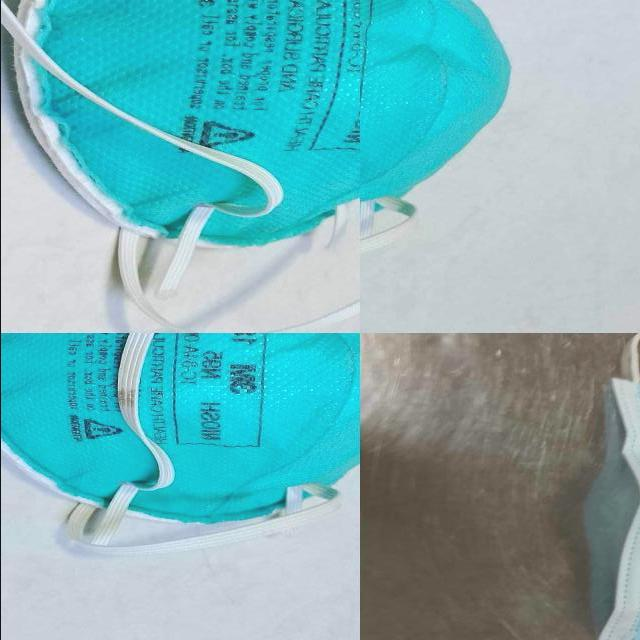General: (3, 2, 512, 557), (2, 331, 361, 544)
Infectious: (11, 1, 513, 253)
